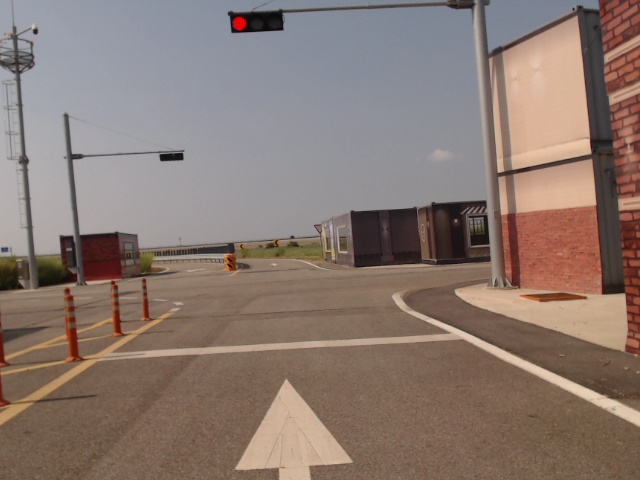red_3: (229, 10, 285, 33)
